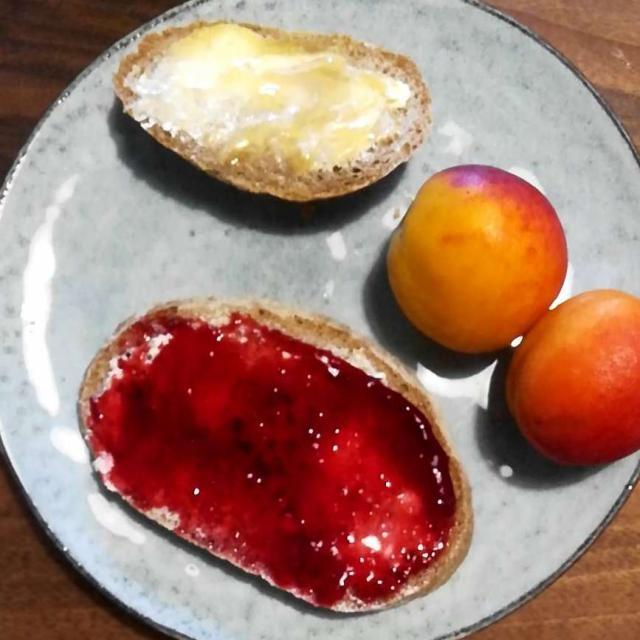apricots: (367, 154, 637, 470)
bread: (71, 5, 469, 622)
honey: (178, 24, 380, 181)
jam: (84, 297, 467, 606)
